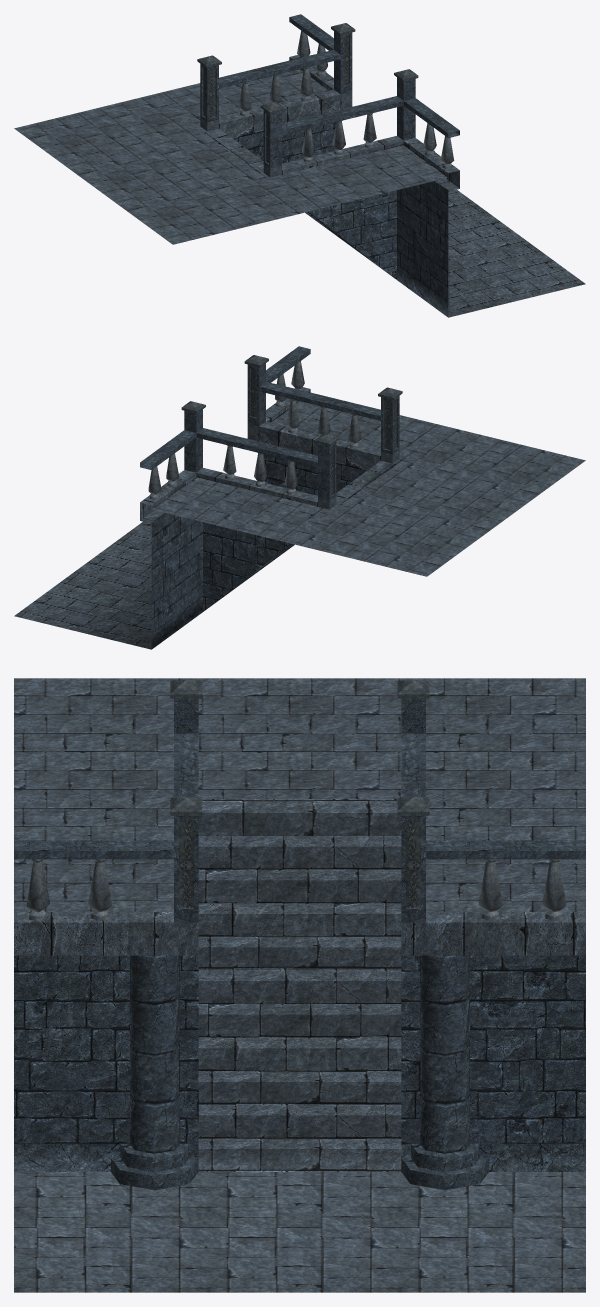
Rendered from DownFloor_stairs.FBX.
3 renders of one model, top to bottom at view 1: azimuth 30°, elevation 25°; view 2: azimuth 150°, elevation 25°; view 3: azimuth 270°, elevation 25°, orthographic. The views are drawn at different scales.
Parts seen in each view (by area): view 1: Object21, Object03; view 2: Object21, Object03; view 3: Object21, Object03.
Boxes of the visible parts, box(x1,y1,x2,y2) form: Object21: box(152, 14, 585, 317); Object03: box(14, 95, 310, 244); Object21: box(14, 346, 447, 649); Object03: box(289, 427, 585, 576); Object21: box(14, 680, 585, 1292); Object03: box(14, 678, 585, 798).
Bounding box in the file's own units: 138 × 67.25 × 91.85.
